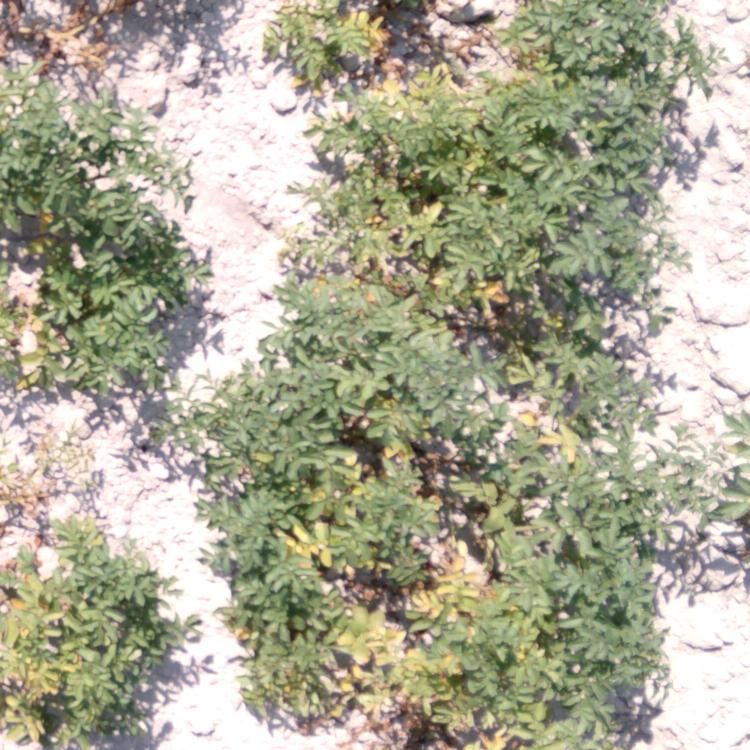healthy: (538, 487, 663, 748), (519, 1, 683, 191), (72, 204, 183, 373), (646, 416, 749, 575), (1, 94, 132, 200), (540, 195, 641, 321)
stressed: (237, 574, 536, 750), (254, 389, 540, 572), (276, 206, 534, 387), (1, 516, 155, 750), (320, 82, 517, 204), (542, 323, 640, 483), (175, 389, 259, 558), (3, 202, 68, 382), (267, 1, 404, 81)
